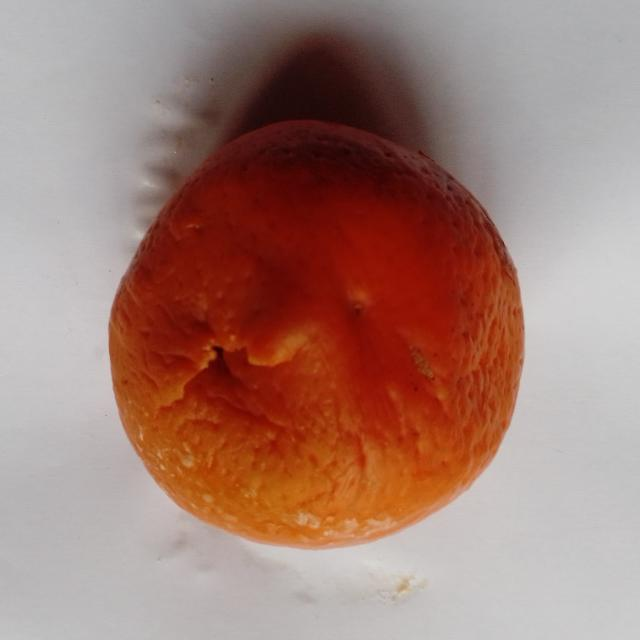orange: (110, 121, 523, 547)
